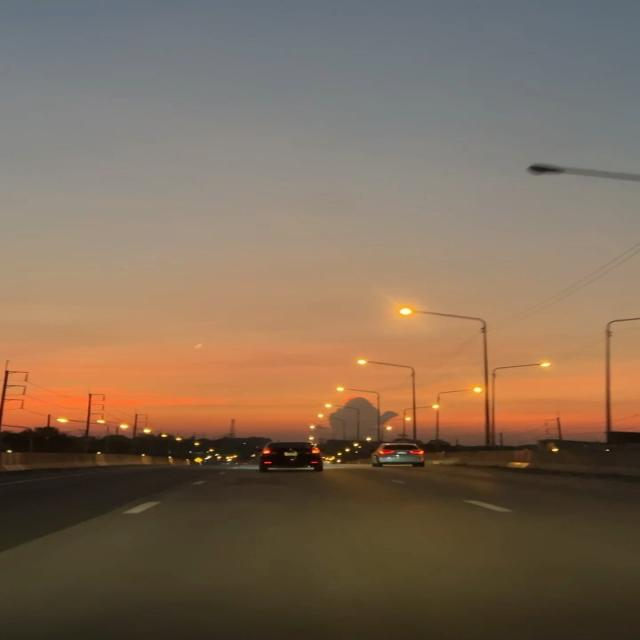Poth-hole: (135, 481, 578, 606)
